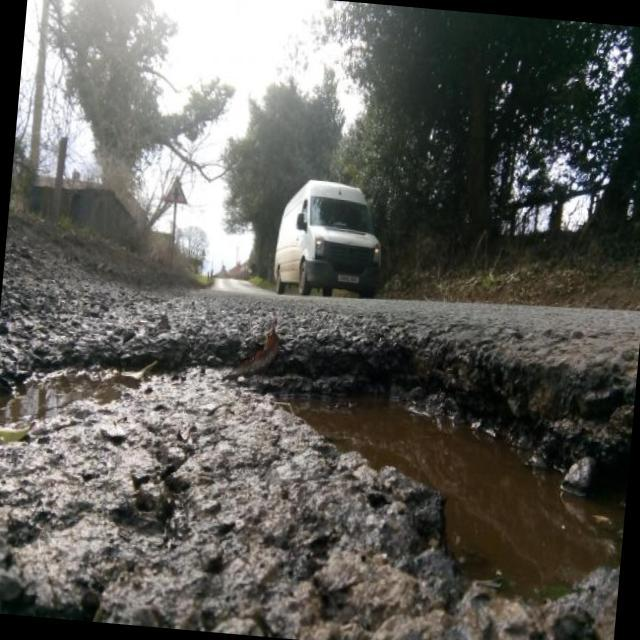Pothole: (236, 343, 636, 620), (0, 321, 137, 459)
